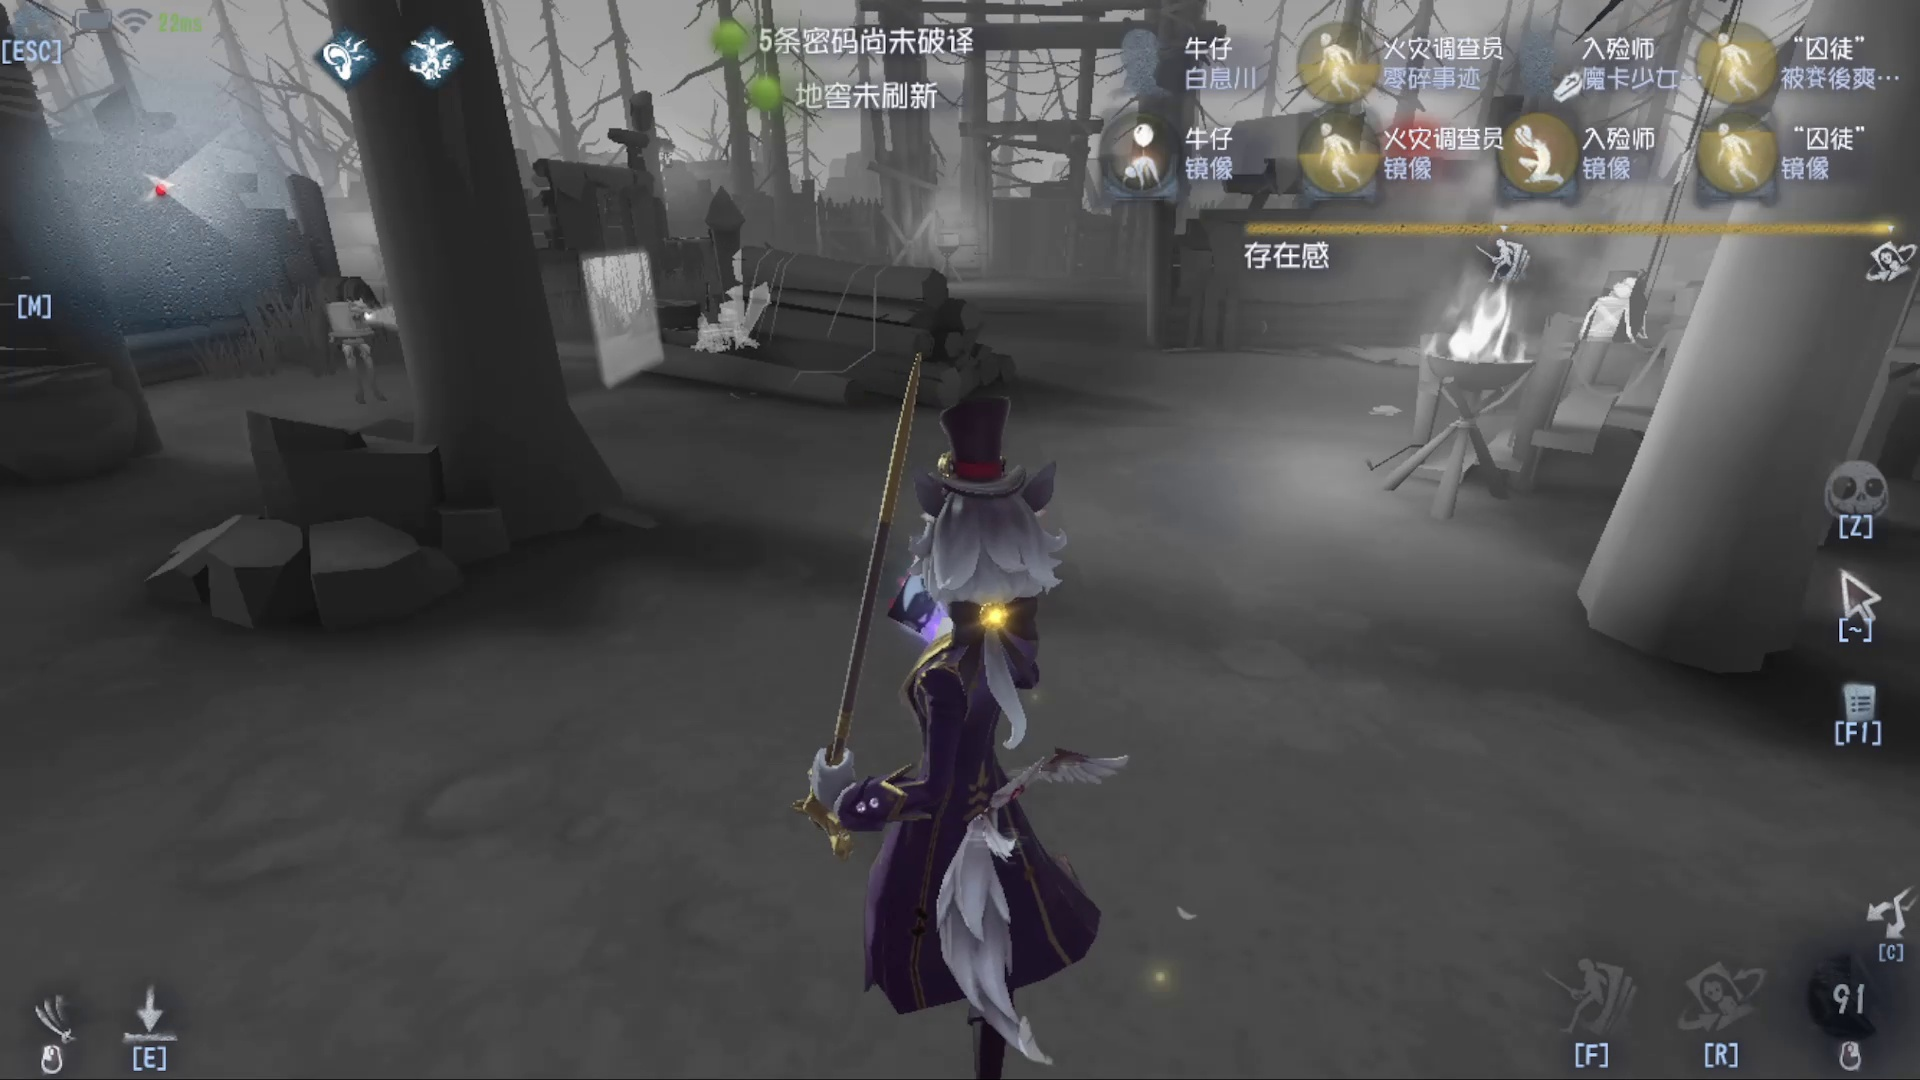狂欢之椅: (658, 170, 764, 352)
